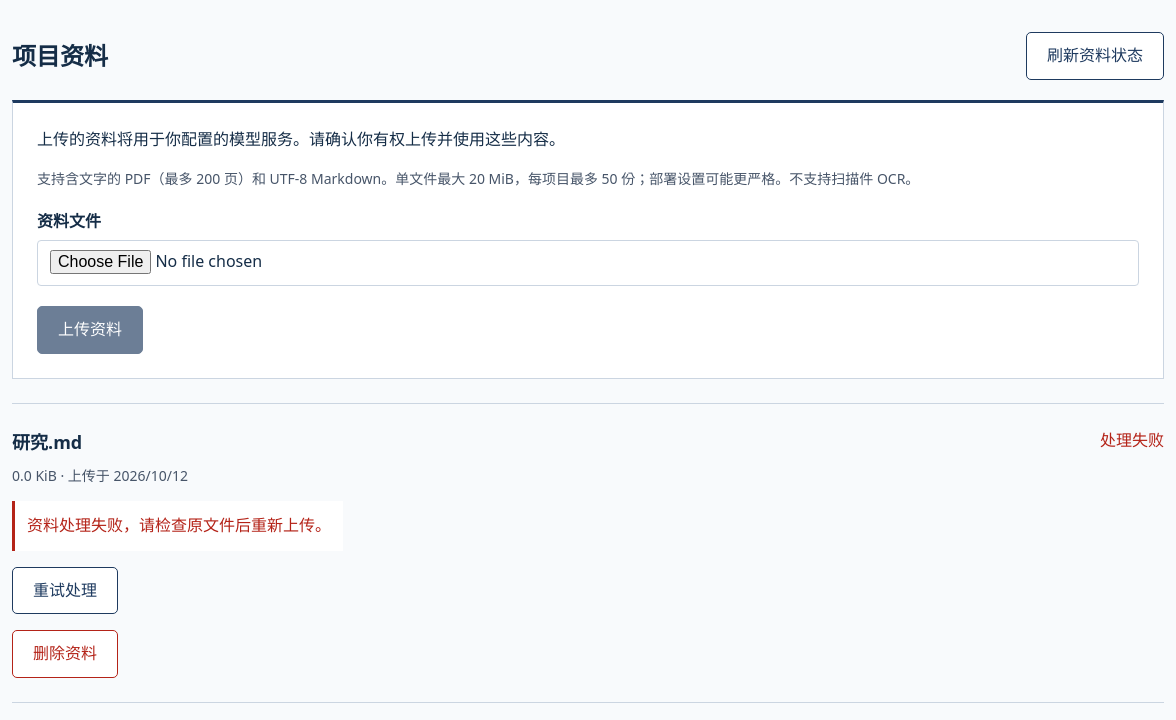
Test: retries a transient failed task with csrf and then refreshes persisted processing state
The image size is (1176, 720).
Click the button "重试处理".
click(65, 590)  # box [12,566,118,614]
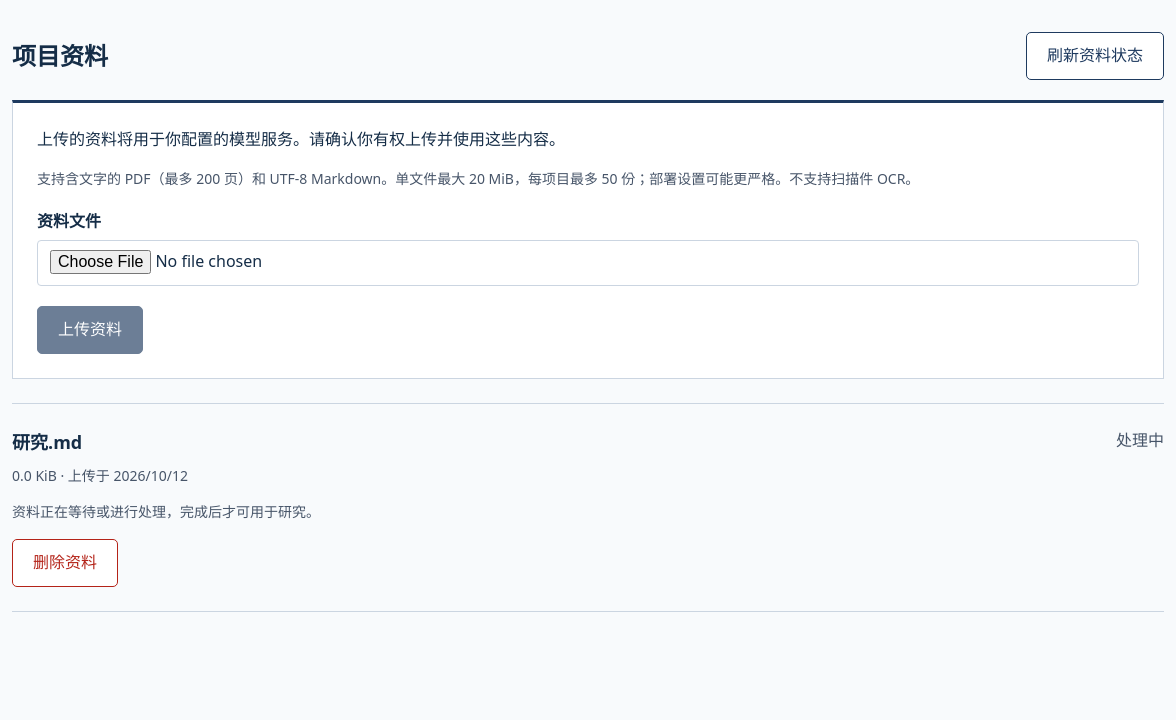
Check: the text "处理中" is shown, box [1116,428,1164,453]
Check: the text "处理失败" is gone
